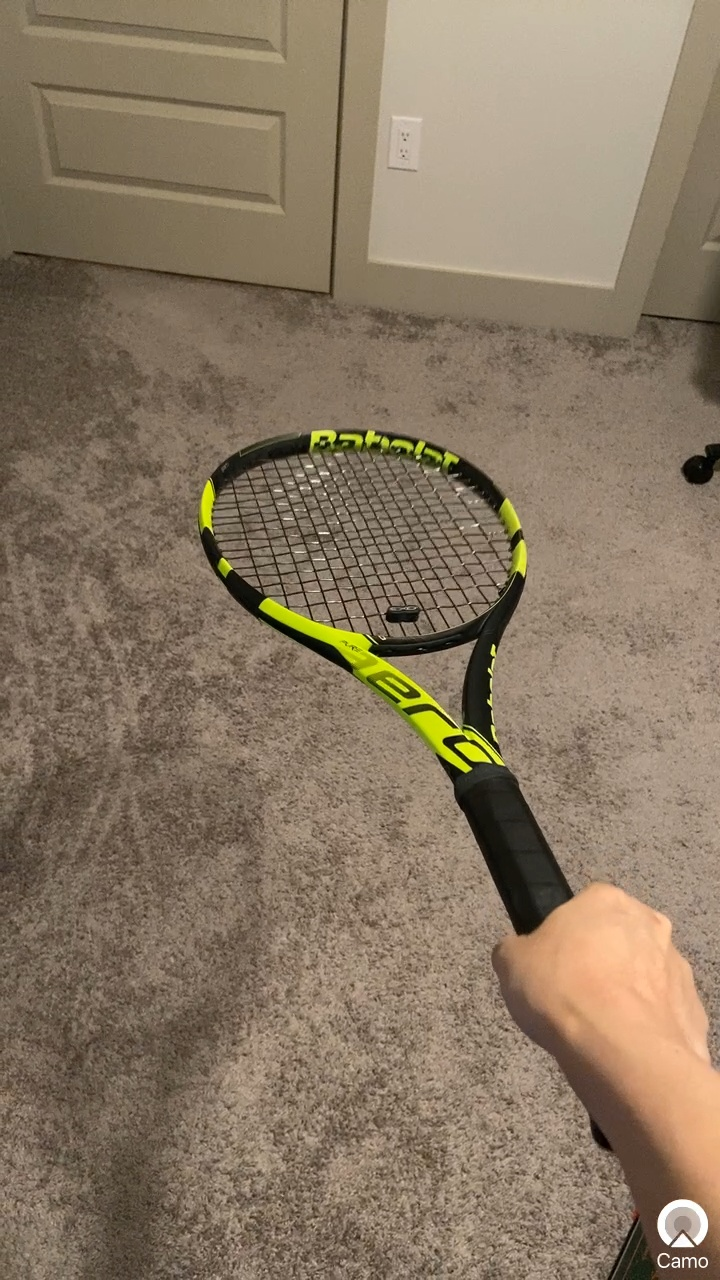Tennis_Racquet: (167, 416, 706, 1184)
